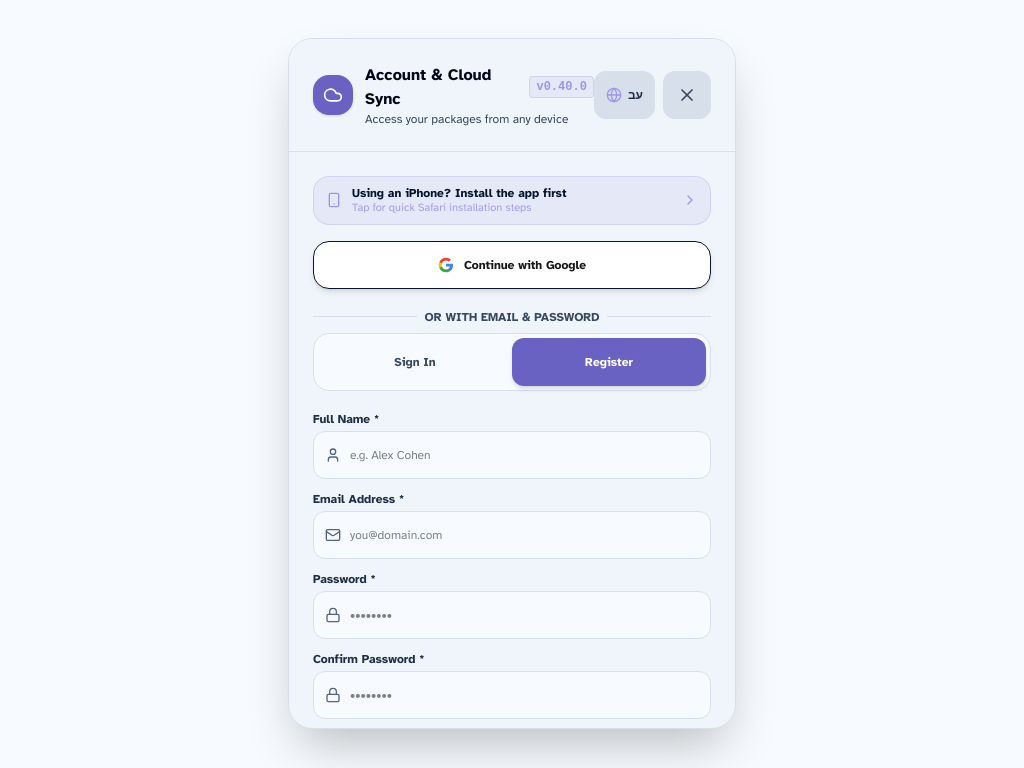
Scenario: AuthModal (rendered) › blocks registration until the Terms of Use / Privacy Policy checkbox is checked
Type "Alex Cohen" into the field with placeholder "e.g. Alex Cohen" at (512, 455), box x1=313 y1=431 x2=711 y2=479
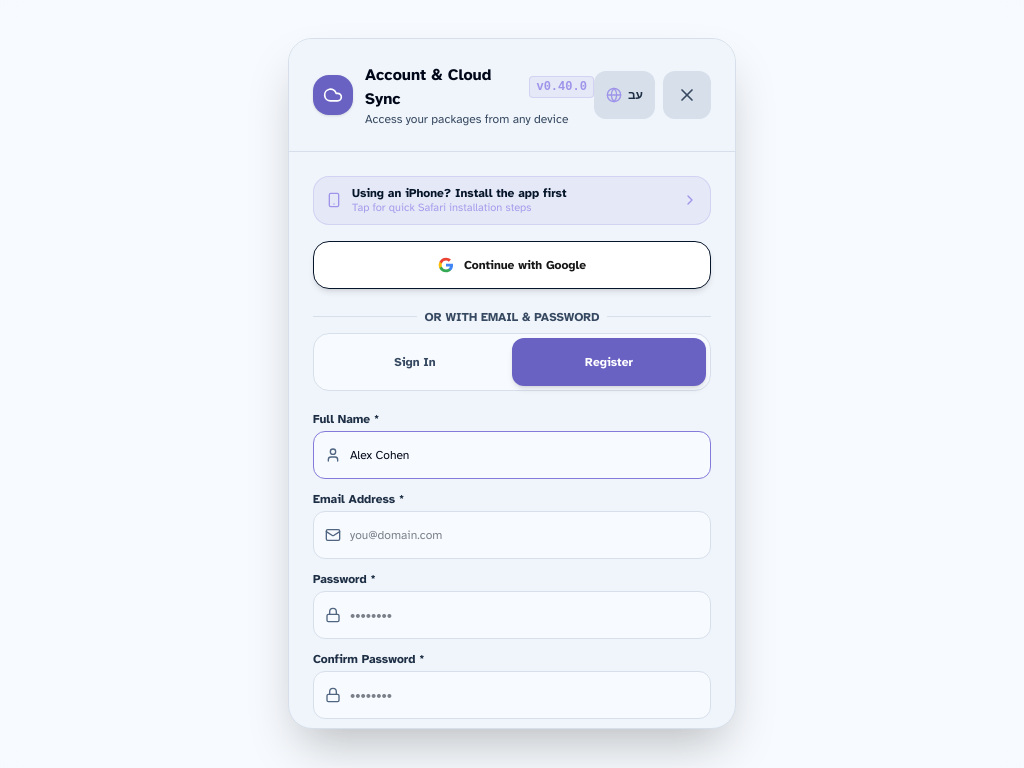
Type "alex@example.com" into the field with placeholder "you@domain.com" at (512, 535), box x1=313 y1=511 x2=711 y2=559
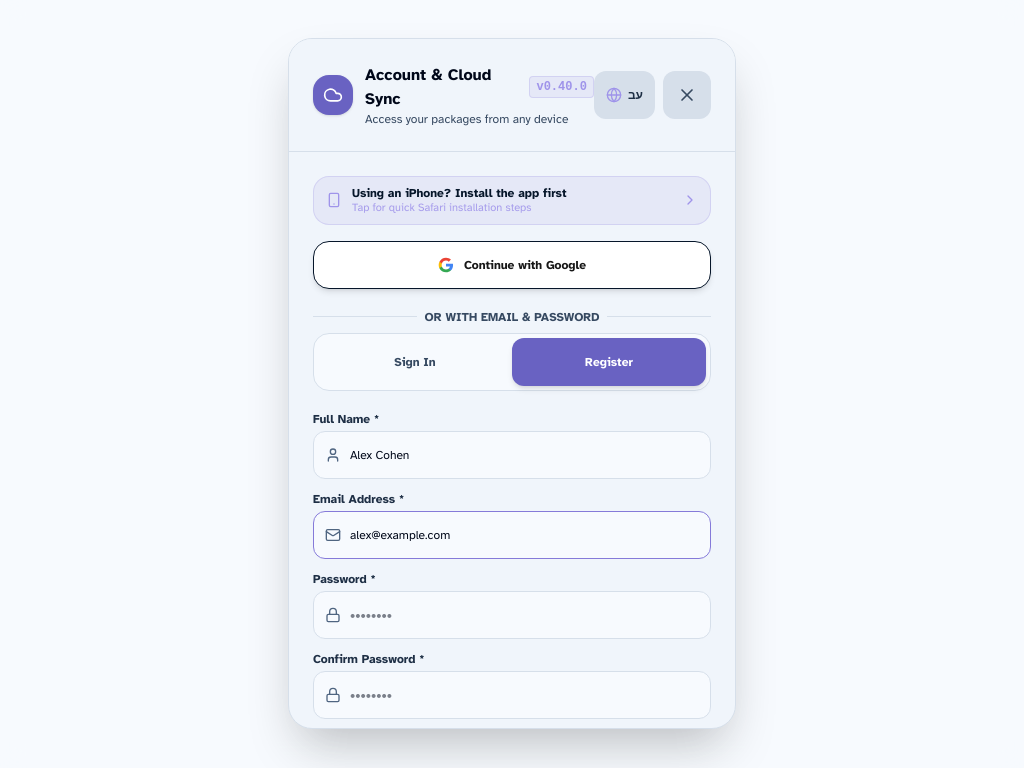
Type "Correct1!Horse" into the 1st password field with placeholder "••••••••" at (512, 615), box x1=313 y1=591 x2=711 y2=639
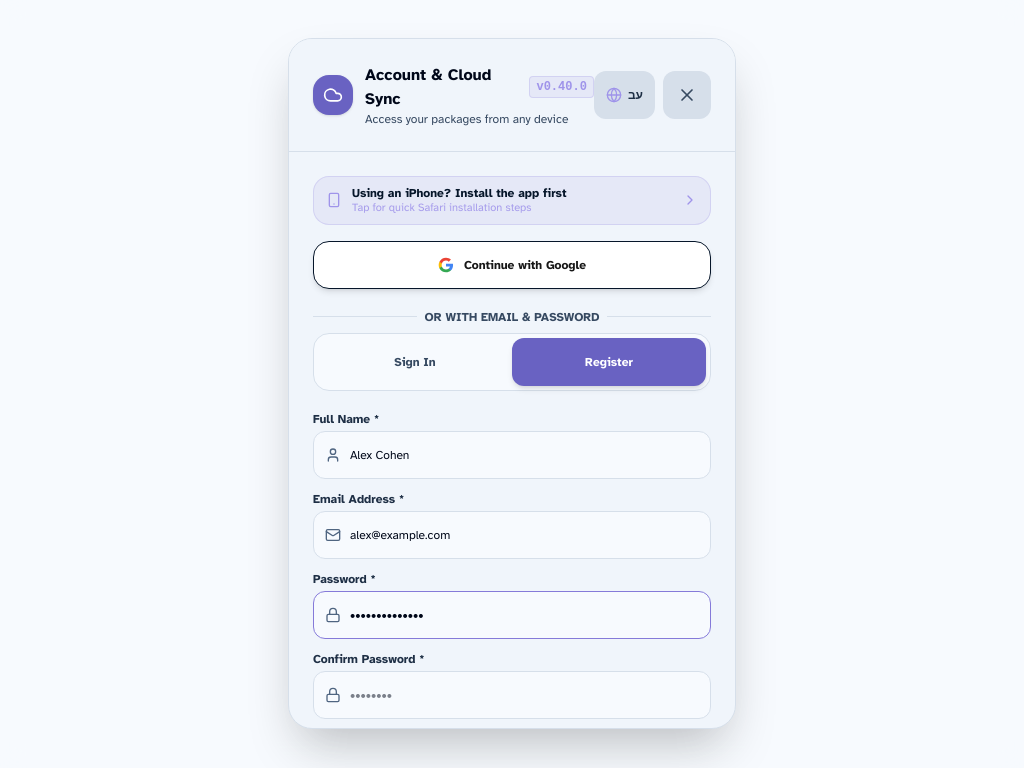
Type "Correct1!Horse" into the password field with placeholder "••••••••" at (512, 695), box x1=313 y1=671 x2=711 y2=719
(page scrolled)
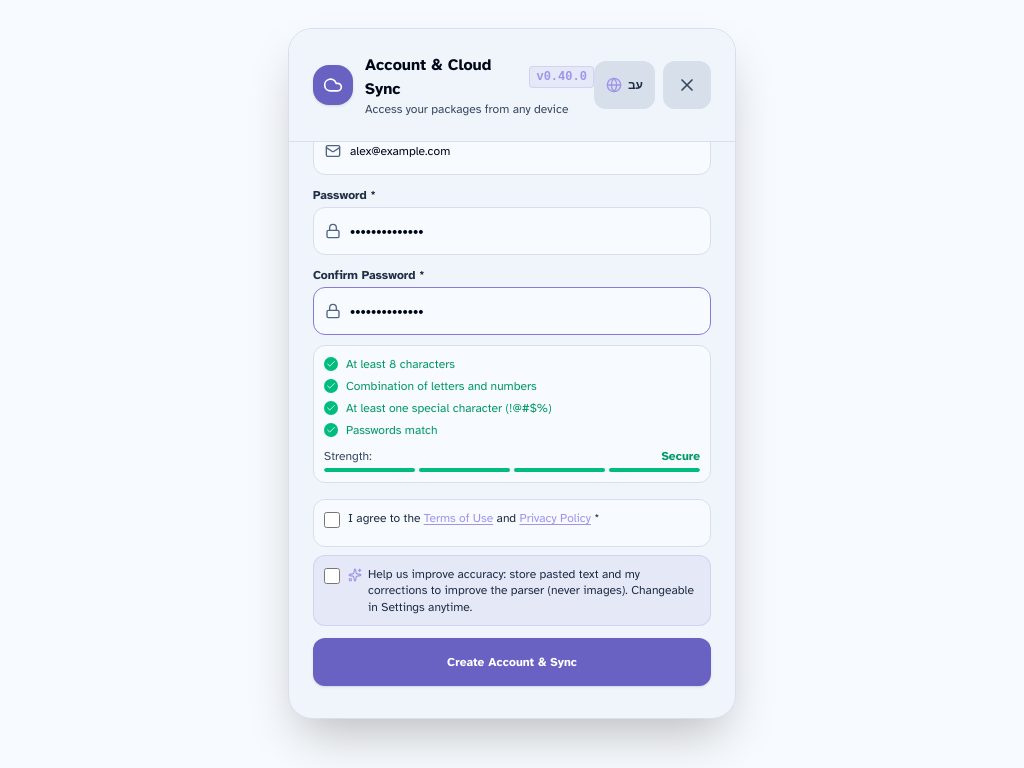
Click the button "Create Account & Sync" at (512, 663), box x1=313 y1=639 x2=711 y2=687
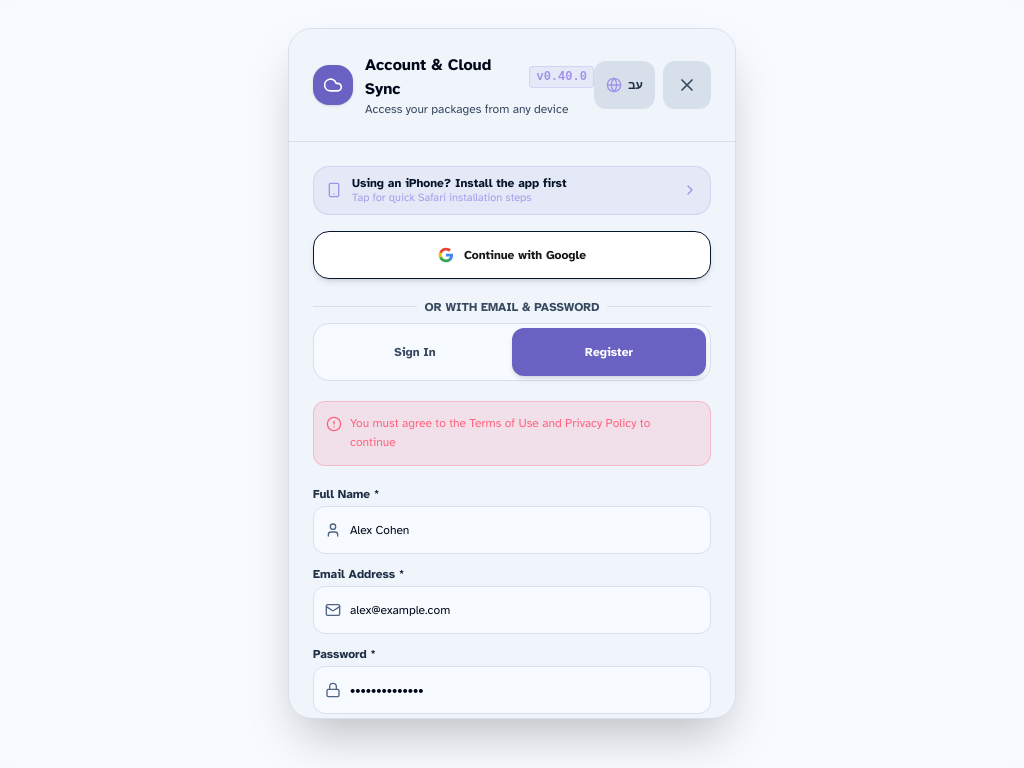
Result: the text "must agree to the Terms of Use" is shown at x1=350 y1=416 x2=650 y2=450
